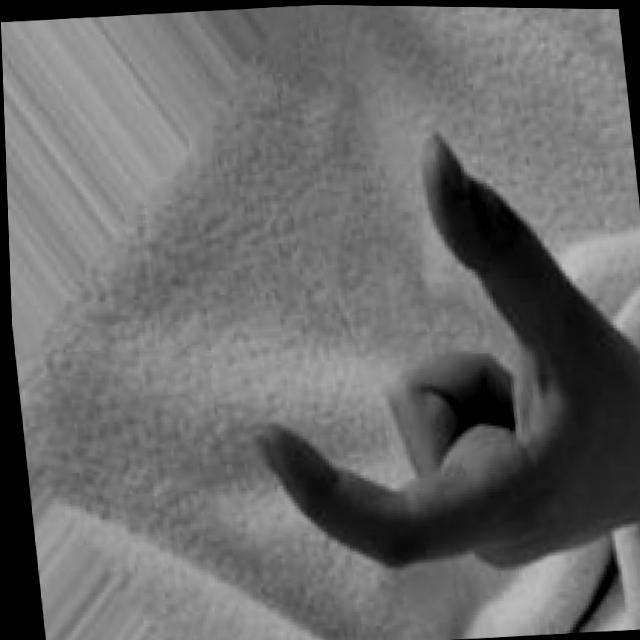U: (209, 95, 640, 606)
